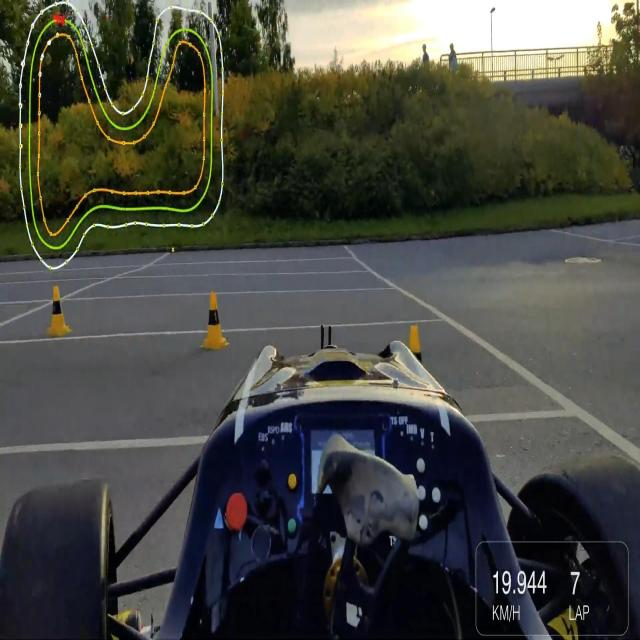yellow_cone: (396, 323, 434, 424), (200, 290, 230, 354), (44, 283, 76, 338)
